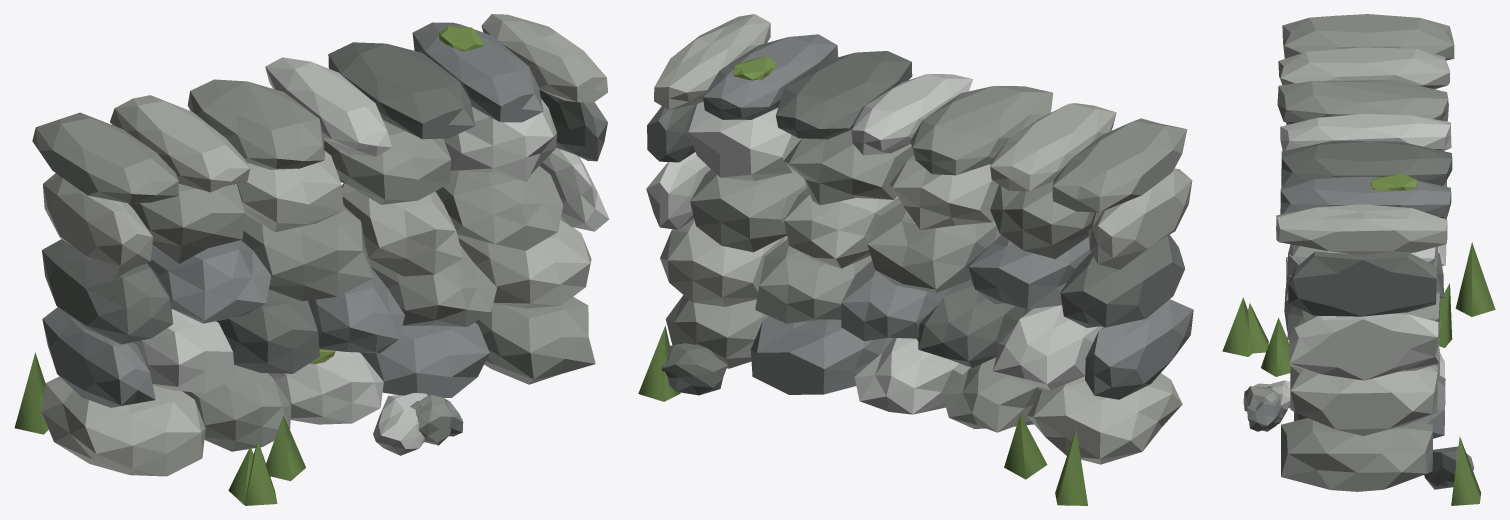
Rendered from stone-wall-middle.glb.
The picture shows the model from 3 angles, left to right: view 1: azimuth 30°, elevation 25°; view 2: azimuth 150°, elevation 25°; view 3: azimuth 270°, elevation 25°; orthographic projection. The views are drawn at different scales.
Parts seen in each view (by area): view 1: stone_1, stone_30, stone_26, stone_28, stone_14, stone_16, stone_18, stone_6, stone_27, stone_12, stone_17, stone_15 (+25 smaller); view 2: stone_1, stone_28, stone_26, stone_5, stone_30, stone_14, stone_16, stone_7, stone_18, stone_27, stone_12, stone_8 (+23 smaller); view 3: stone_6, stone_25, stone_19, stone_12, stone_33, stone_30, stone_28, stone_26, stone_27, stone_29, stone_31, grass_tuft_42 (+13 smaller).
Part boxes in pixels (box(x1,y1,x2,y2)): stone_1: box(41, 376, 205, 476); stone_30: box(328, 42, 475, 139); stone_26: box(32, 112, 178, 203); stone_28: box(187, 79, 324, 169); stone_14: box(42, 239, 173, 344); stone_16: box(241, 205, 373, 301); stone_18: box(435, 166, 563, 250); stone_6: box(475, 296, 595, 384); stone_27: box(110, 95, 250, 192); stone_12: box(457, 220, 591, 308); stone_17: box(341, 183, 463, 276); stone_15: box(147, 240, 271, 323); stone_1: box(1027, 373, 1182, 464); stone_28: box(910, 86, 1053, 175); stone_26: box(1052, 118, 1187, 212); stone_5: box(750, 316, 892, 394); stone_30: box(776, 51, 912, 139); stone_14: box(1060, 234, 1184, 327); stone_16: box(867, 203, 1000, 292); stone_7: box(1085, 299, 1193, 399); stone_18: box(690, 169, 807, 252); stone_27: box(990, 103, 1116, 191); stone_12: box(660, 218, 787, 306); stone_8: box(993, 305, 1103, 390); stone_6: box(1281, 418, 1432, 491); stone_25: box(1288, 251, 1436, 316); stone_19: box(1289, 313, 1439, 380); stone_12: box(1290, 365, 1437, 435); stone_33: box(1276, 204, 1447, 254); stone_30: box(1281, 141, 1452, 186); stone_28: box(1277, 80, 1448, 123); stone_26: box(1282, 14, 1454, 60); stone_27: box(1278, 47, 1449, 89); stone_29: box(1280, 114, 1451, 150); stone_31: box(1280, 176, 1451, 217); grass_tuft_42: box(1455, 242, 1495, 316).
Size of the model in its own units: 1.01 by 0.643 by 0.5361.
